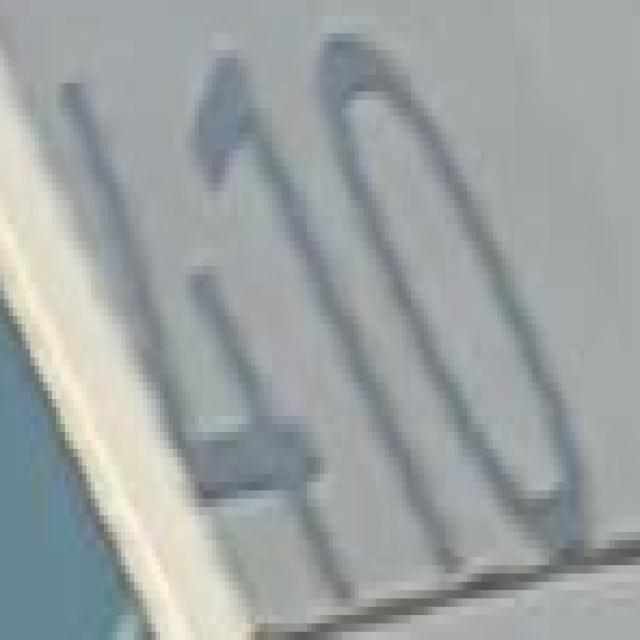character: (55, 65, 361, 613), (178, 41, 475, 589), (313, 26, 597, 578)
